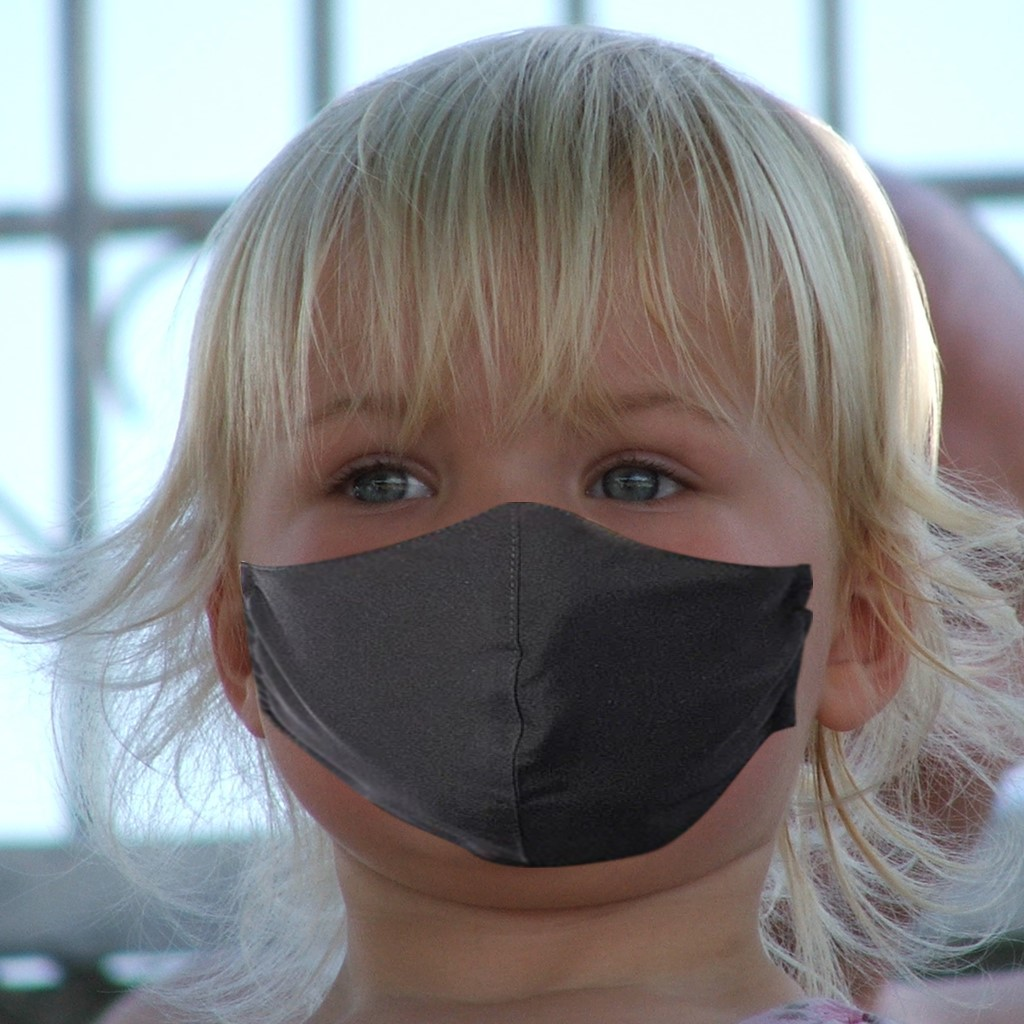con_mascara: (241, 191, 835, 911)
